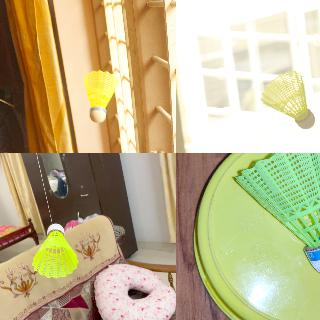shuttlecock: (232, 153, 319, 278), (262, 71, 314, 129), (32, 224, 78, 278), (82, 70, 118, 122)
